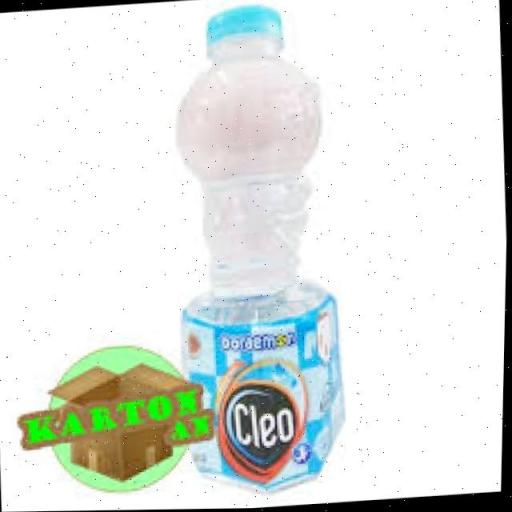plastic: (158, 0, 365, 506)
